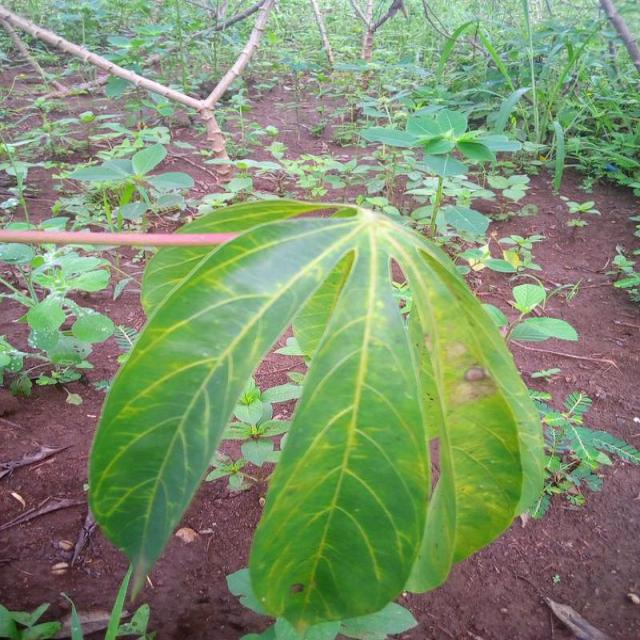cassava leaf: (87, 201, 546, 634)
